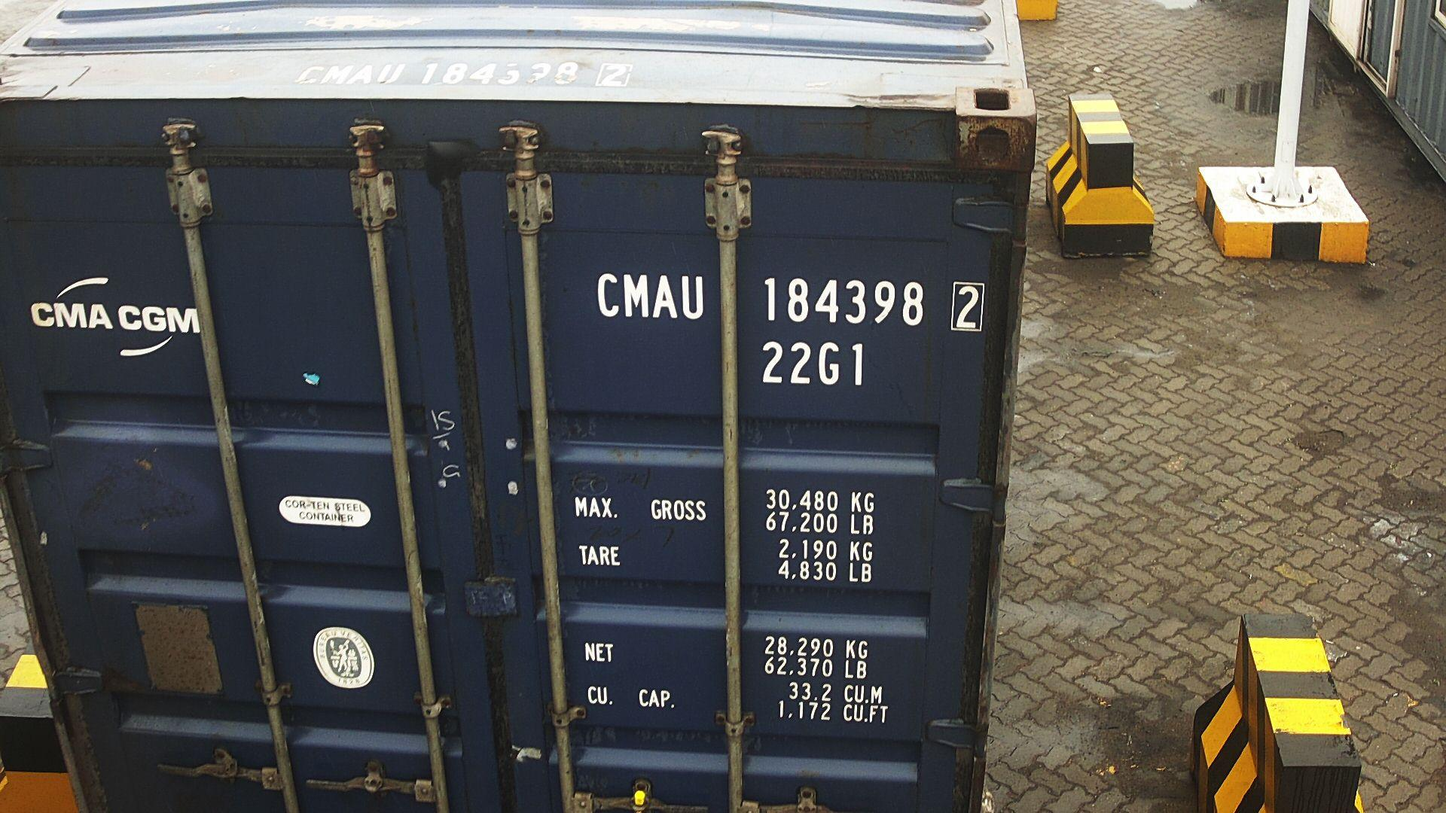container-numbers: (594, 269, 990, 335), (288, 59, 636, 89), (755, 338, 870, 390)
